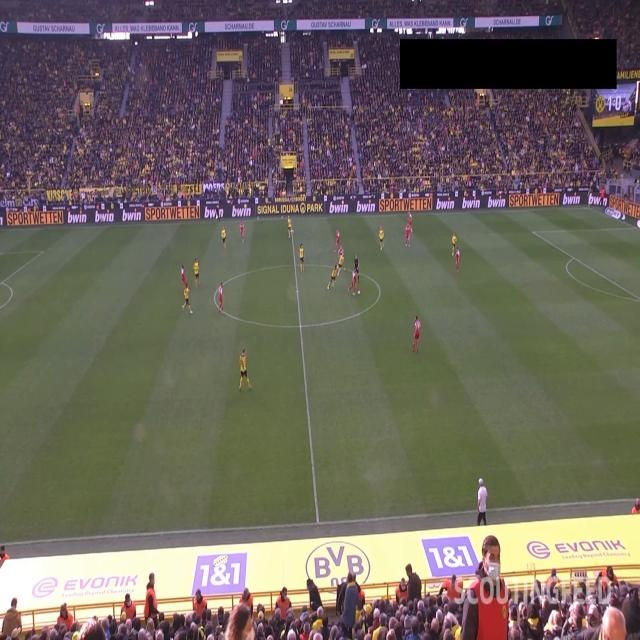ball: (357, 290, 361, 295)
